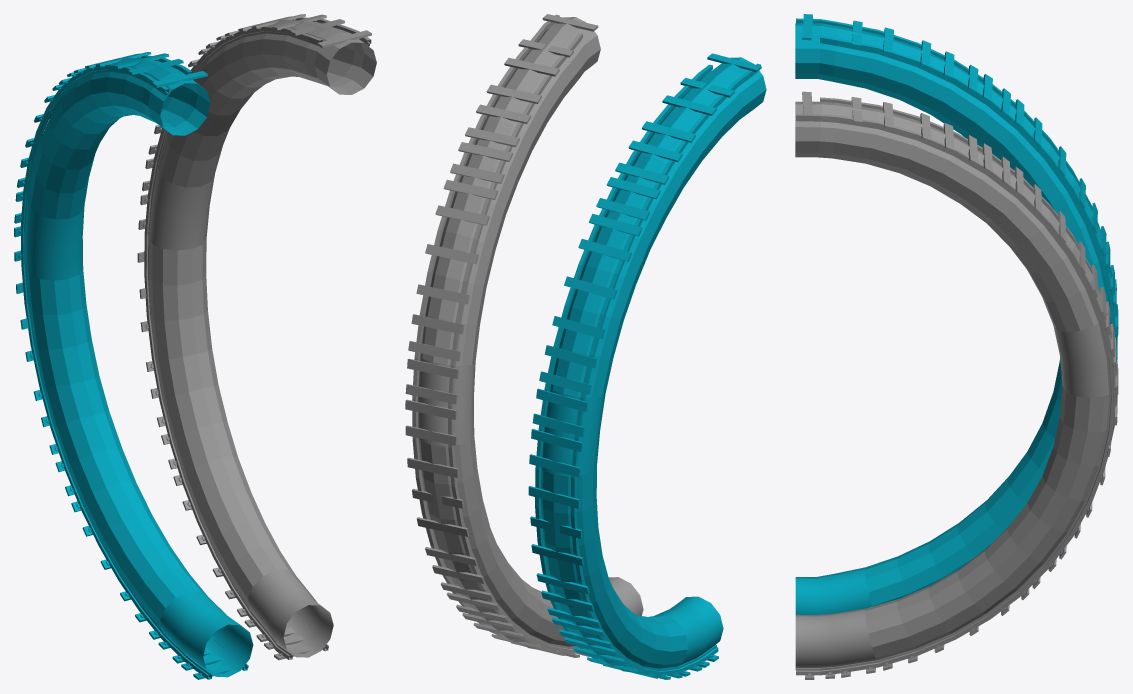
The model's file is pitchingSPIN0502.FBX.
3 views of the same model, side by side, from view 1: azimuth 30°, elevation 25°; view 2: azimuth 150°, elevation 25°; view 3: azimuth 270°, elevation 25° (orthographic). The views are drawn at different scales.
Parts seen in each view (by area): view 1: Cylinder046, Cylinder045, rail stright105, rail stright099; view 2: Cylinder046, Cylinder045, rail stright105, rail stright099; view 3: Cylinder045, Cylinder046, rail stright099, rail stright105.
Part boxes in pixels (x1,y1,x2,y2): Cylinder046: [25, 57, 253, 677]; Cylinder045: [148, 19, 376, 657]; rail stright105: [14, 52, 248, 679]; rail stright099: [137, 14, 371, 660]; Cylinder046: [541, 57, 766, 671]; Cylinder045: [418, 17, 643, 649]; rail stright105: [528, 53, 761, 679]; rail stright099: [405, 14, 598, 657]; Cylinder045: [795, 101, 1117, 670]; Cylinder046: [795, 23, 1117, 614]; rail stright099: [796, 91, 1118, 679]; rail stright105: [796, 14, 1118, 360].
Size of the model in its own units: 604 by 1612 by 807.
